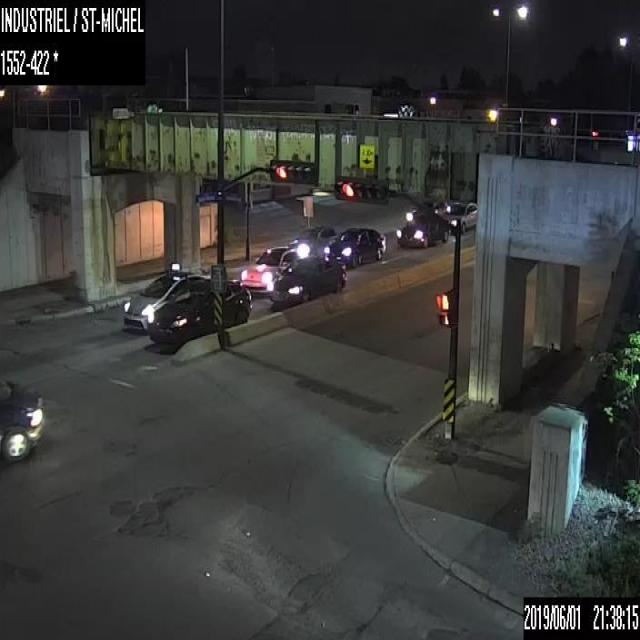vehicle: (148, 277, 249, 345), (124, 262, 211, 332), (0, 373, 44, 463), (269, 256, 346, 304), (240, 245, 300, 295), (324, 227, 386, 266), (395, 210, 450, 247), (290, 225, 336, 258), (440, 202, 477, 233)
